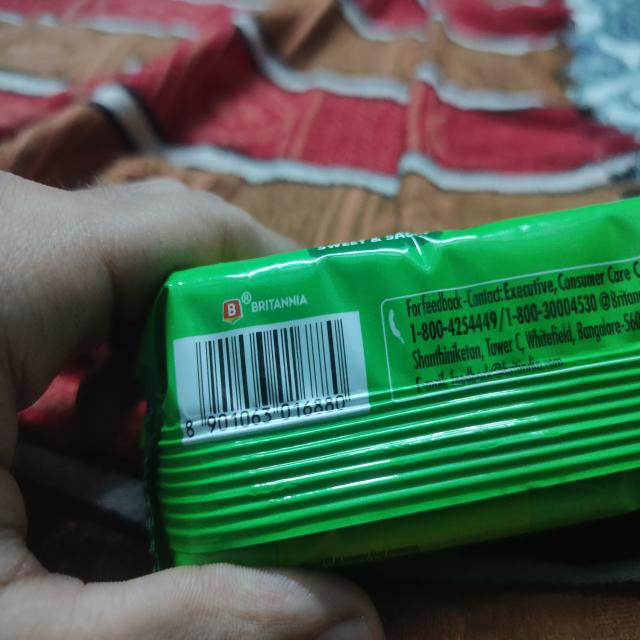biscuit: (146, 181, 640, 565)
